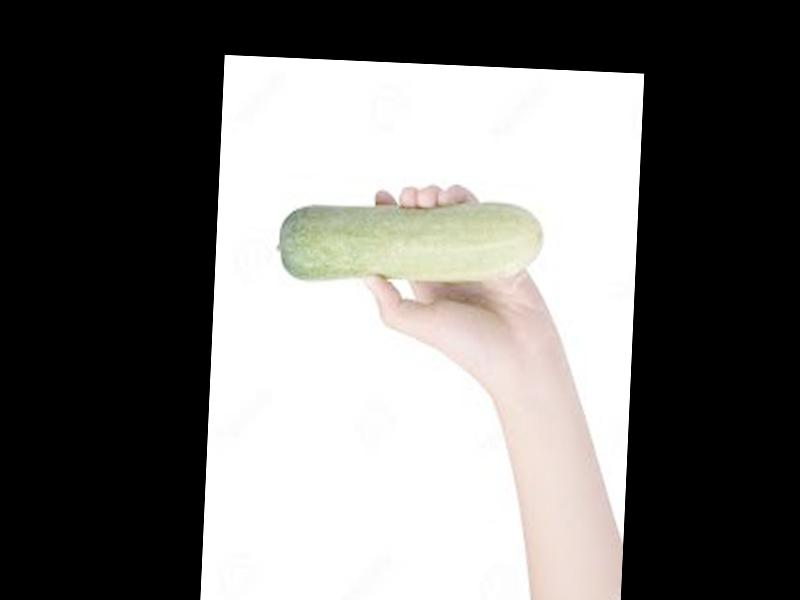Cucumber: (273, 195, 546, 296)
